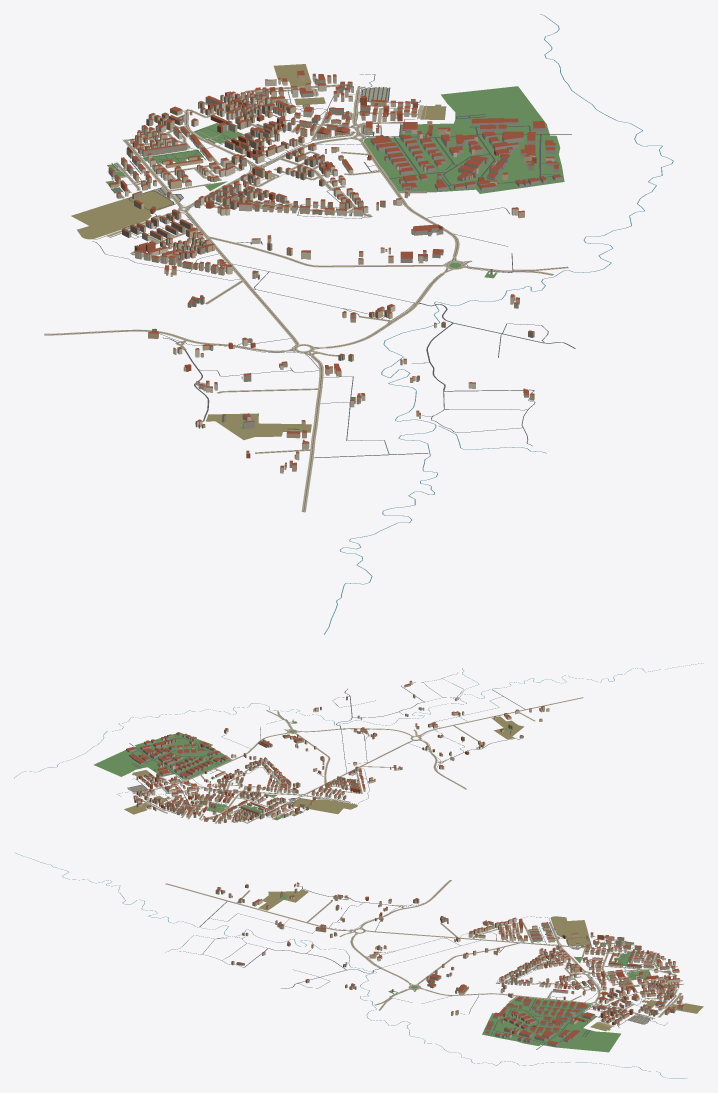
File: corea.glb
3 views of the same model, one above another, from view 1: azimuth 30°, elevation 25°; view 2: azimuth 150°, elevation 25°; view 3: azimuth 270°, elevation 25° (orthographic). The views are drawn at different scales.
Visible parts, largest first — view 1: quartiere-corea; view 2: quartiere-corea; view 3: quartiere-corea.
Part boxes in pixels (left/top/right/bottom): quartiere-corea: left=44, top=14, right=673, bottom=634; quartiere-corea: left=14, top=663, right=703, bottom=823; quartiere-corea: left=15, top=853, right=703, bottom=1078.
Bounding box in the file's own units: 3420 × 35.9 × 4411.
